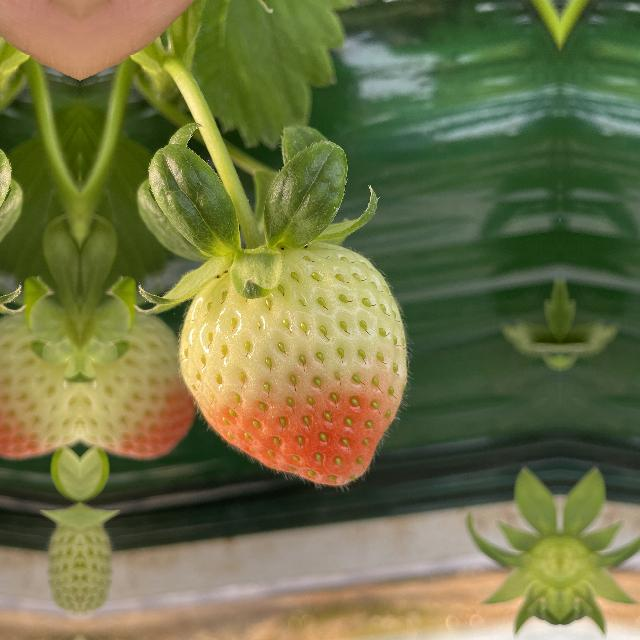Health_50: (80, 282, 192, 468), (0, 282, 80, 467)
Health_75: (165, 222, 412, 486)
